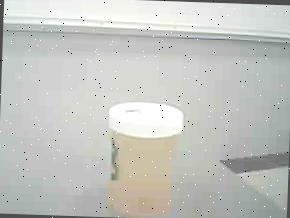Bottle B: (97, 92, 192, 218)
